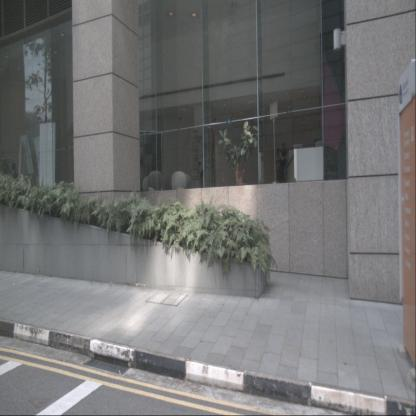human-pedestrian-adult: (279, 142, 288, 188), (275, 147, 281, 182)
